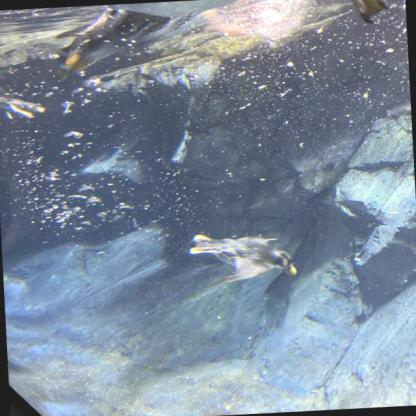puffin: (56, 0, 394, 79), (190, 229, 298, 286), (0, 64, 46, 124)
